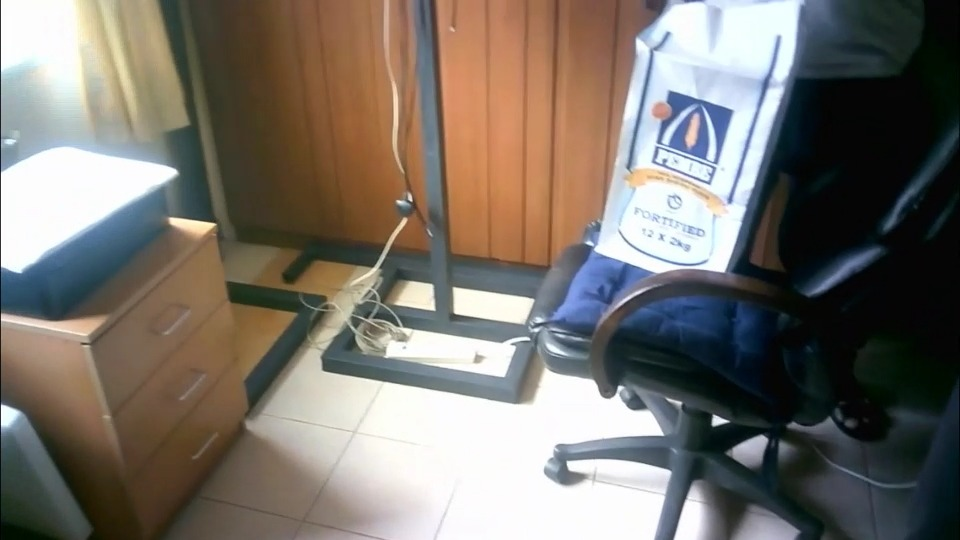wheat_flour_blue_label: (595, 2, 798, 271)
